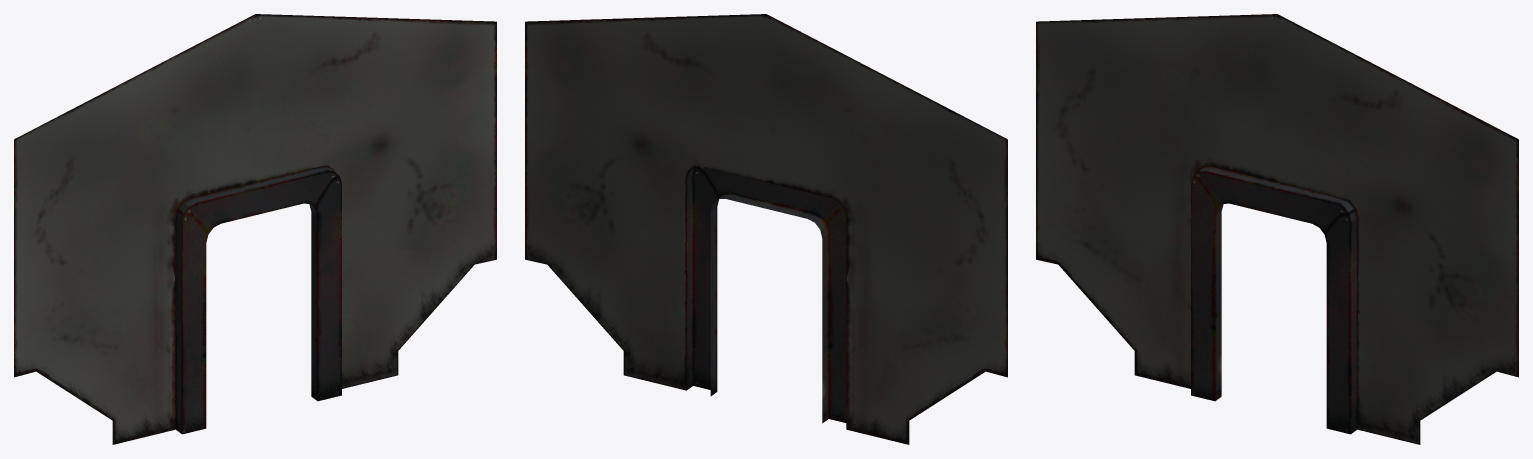
The model's file is StraightTunnel entrance 1.fbx.
The picture shows the model from 3 angles, left to right: view 1: azimuth 30°, elevation 25°; view 2: azimuth 150°, elevation 25°; view 3: azimuth 330°, elevation 25°; orthographic projection.
Visible parts, largest first — view 1: entrance 1; view 2: entrance 1; view 3: entrance 1.
Part boxes in pixels (left/top/right/bottom): entrance 1: left=14, top=14, right=496, bottom=444; entrance 1: left=525, top=14, right=1007, bottom=444; entrance 1: left=1036, top=14, right=1518, bottom=444.
Bounding box in the file's own units: 23.58 × 1000 × 784.
